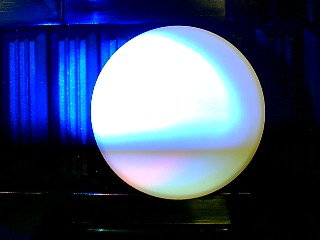BLANK: (90, 25, 265, 200)
